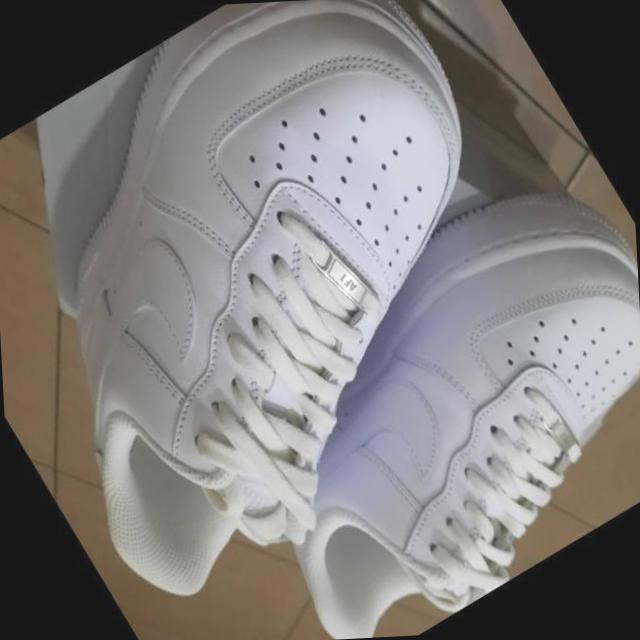nike_original_airforce: (0, 0, 618, 625), (138, 108, 640, 640)
